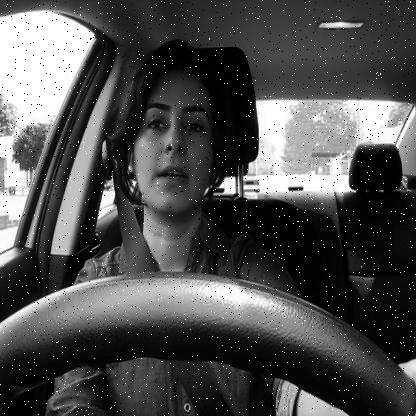seatbelt: (96, 38, 254, 416)
